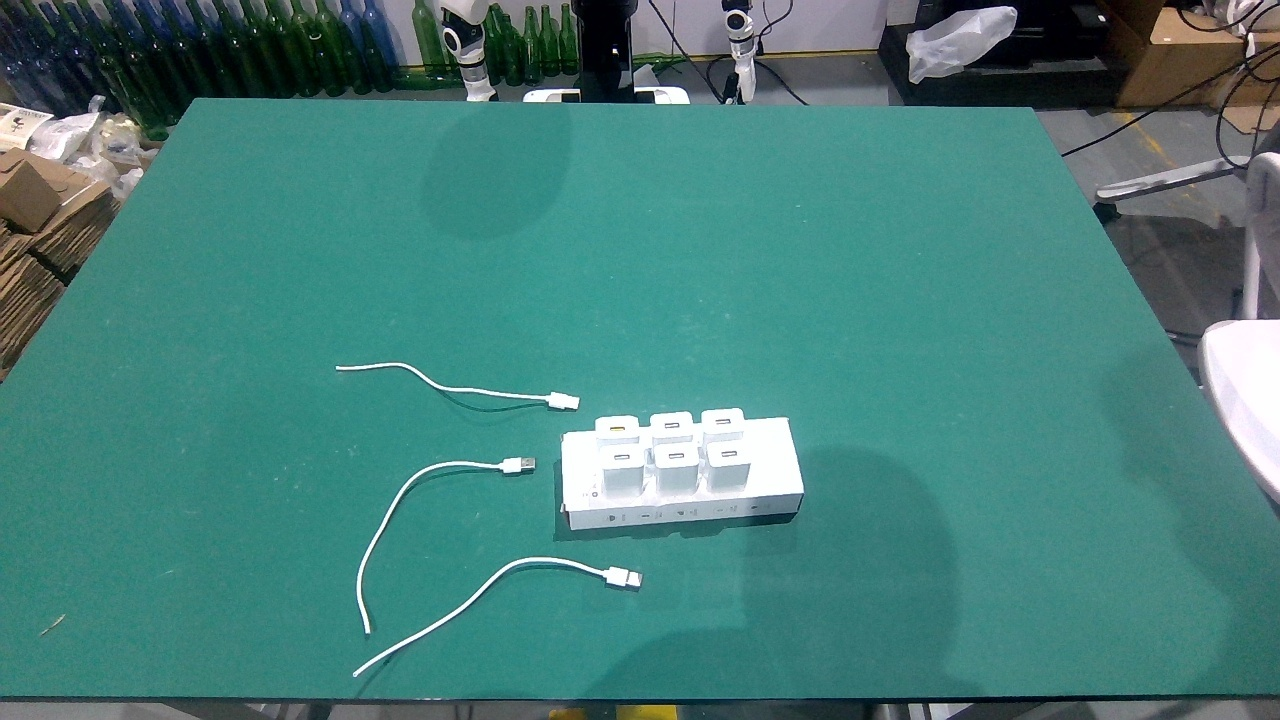usb_a_plug: (579, 558, 659, 595), (528, 389, 585, 412), (482, 455, 542, 475)
